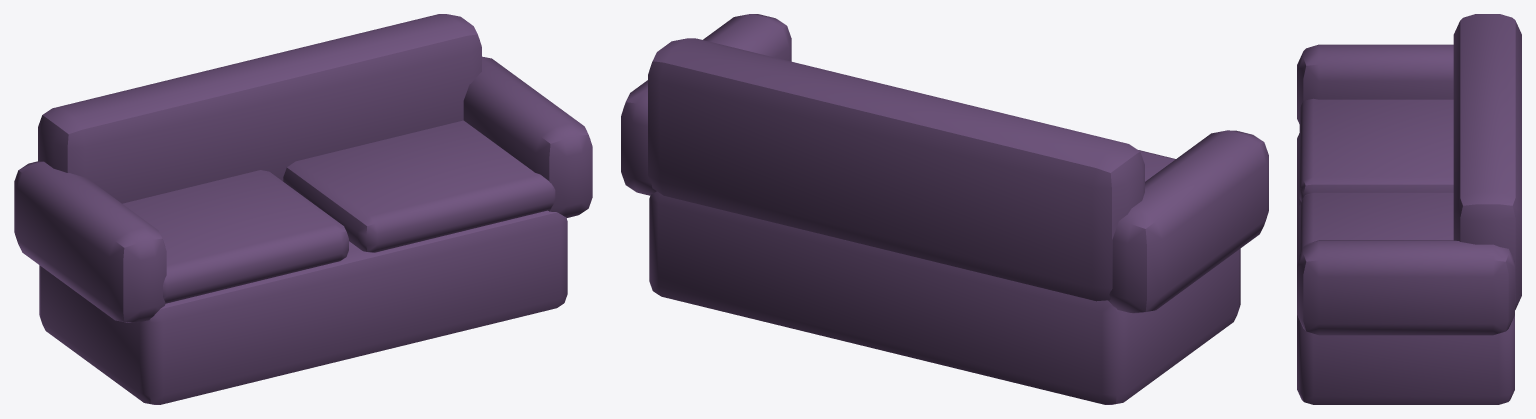
The model's file is sofa.glb.
3 renders of one model, left to right at view 1: azimuth 30°, elevation 25°; view 2: azimuth 150°, elevation 25°; view 3: azimuth 270°, elevation 25°, orthographic. The views are drawn at different scales.
Visible parts, largest first — view 1: sofa; view 2: sofa; view 3: sofa.
Boxes of the visible parts, x1,y1,x2,y2 form: sofa: [14, 14, 592, 404]; sofa: [621, 14, 1268, 404]; sofa: [1297, 14, 1521, 404].
Size of the model in its own units: 1.92 by 0.85 by 0.825.
